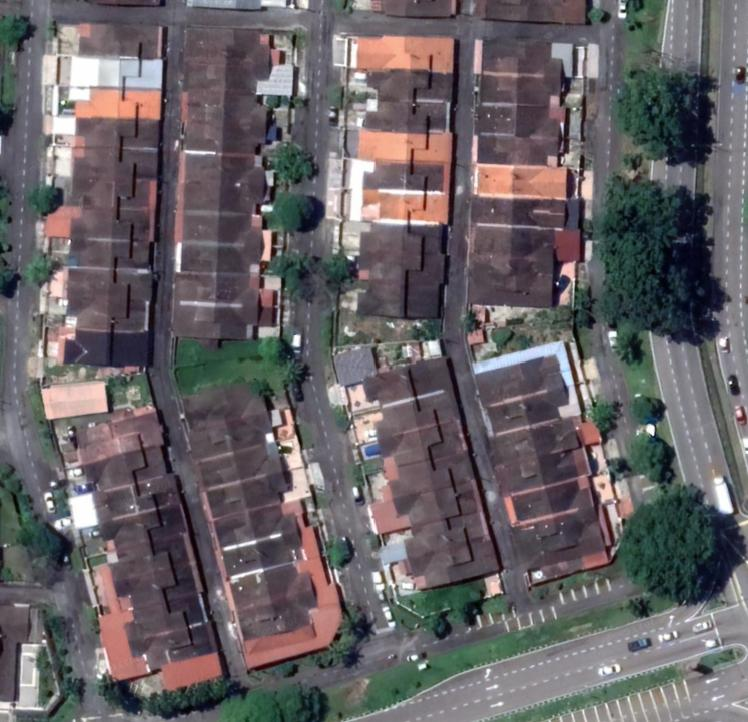building: (511, 510, 611, 577), (356, 352, 460, 412), (470, 352, 570, 414), (74, 407, 168, 469), (491, 447, 595, 503), (502, 476, 601, 533), (125, 618, 224, 675), (404, 540, 506, 595), (485, 417, 583, 474), (178, 378, 271, 437), (370, 393, 465, 446), (346, 32, 459, 76), (109, 567, 210, 616), (105, 536, 202, 587), (374, 422, 474, 471), (399, 515, 497, 565), (201, 472, 295, 523), (210, 506, 304, 557), (228, 566, 320, 618), (384, 456, 481, 505), (187, 416, 275, 470), (389, 484, 490, 531), (464, 260, 556, 311), (484, 390, 572, 443), (94, 505, 191, 553), (179, 20, 277, 67), (120, 597, 214, 646), (89, 479, 185, 526), (219, 533, 306, 584), (79, 450, 174, 496), (236, 593, 321, 644), (193, 448, 285, 495), (477, 34, 568, 81), (165, 309, 262, 352), (73, 20, 168, 62), (345, 161, 454, 197), (469, 165, 571, 202), (58, 333, 156, 371), (177, 93, 279, 128), (351, 134, 456, 168), (66, 60, 167, 95), (64, 90, 165, 124), (469, 199, 573, 232), (359, 101, 454, 137), (466, 227, 558, 264), (60, 275, 156, 310), (64, 242, 157, 278), (70, 150, 162, 186), (474, 135, 565, 171), (354, 258, 450, 292), (356, 226, 449, 261), (172, 247, 270, 280), (361, 73, 455, 107), (65, 210, 156, 245), (178, 64, 277, 96), (471, 77, 567, 110), (175, 157, 272, 189), (175, 217, 269, 250), (170, 277, 264, 310), (472, 110, 566, 143), (352, 290, 446, 323), (175, 188, 271, 220), (71, 121, 161, 155), (65, 182, 160, 214), (177, 128, 275, 159), (360, 197, 453, 228), (60, 308, 155, 336)
